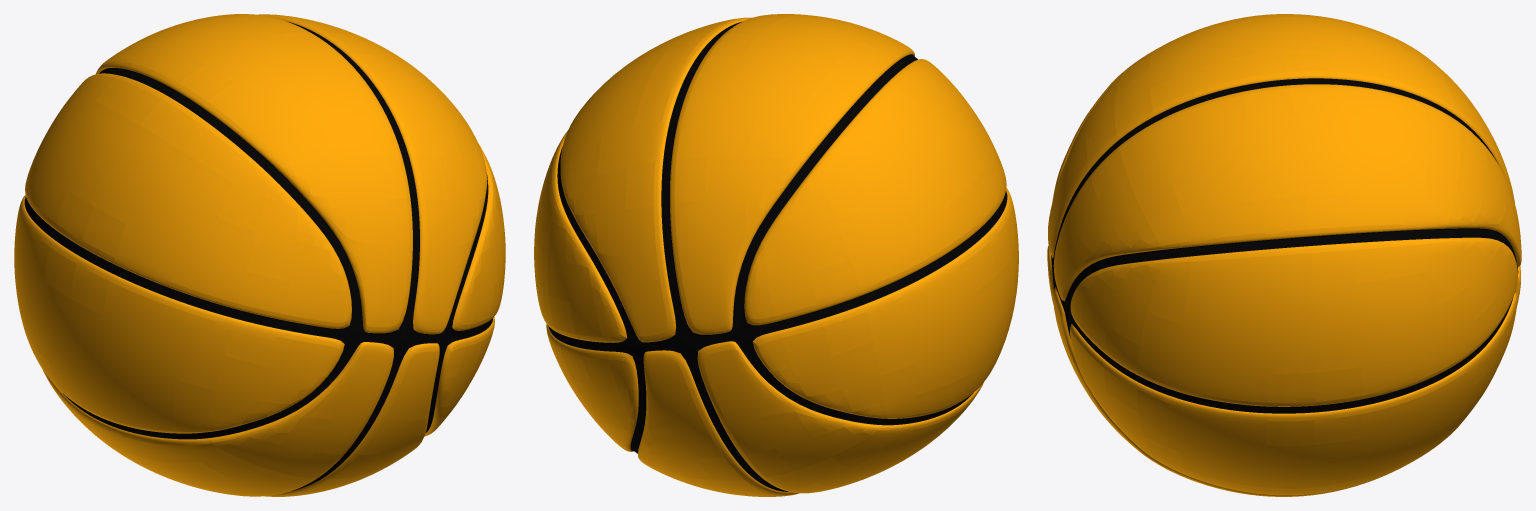
Rendered from ball.fbx.
3 renders of one model, left to right at view 1: azimuth 30°, elevation 25°; view 2: azimuth 150°, elevation 25°; view 3: azimuth 270°, elevation 25°, orthographic.
Parts seen in each view (by area): view 1: basket_ball_basket_ball_black_basket_0_basket_ball_blac_1beb; view 2: basket_ball_basket_ball_black_basket_0_basket_ball_blac_1beb; view 3: basket_ball_basket_ball_black_basket_0_basket_ball_blac_1beb.
Boxes of the visible parts, bbox=[...] form: basket_ball_basket_ball_black_basket_0_basket_ball_blac_1beb: bbox=[14, 14, 505, 496]; basket_ball_basket_ball_black_basket_0_basket_ball_blac_1beb: bbox=[534, 14, 1018, 496]; basket_ball_basket_ball_black_basket_0_basket_ball_blac_1beb: bbox=[1047, 14, 1521, 496].
Bounding box in the file's own units: 50.31 × 50.24 × 50.18.
